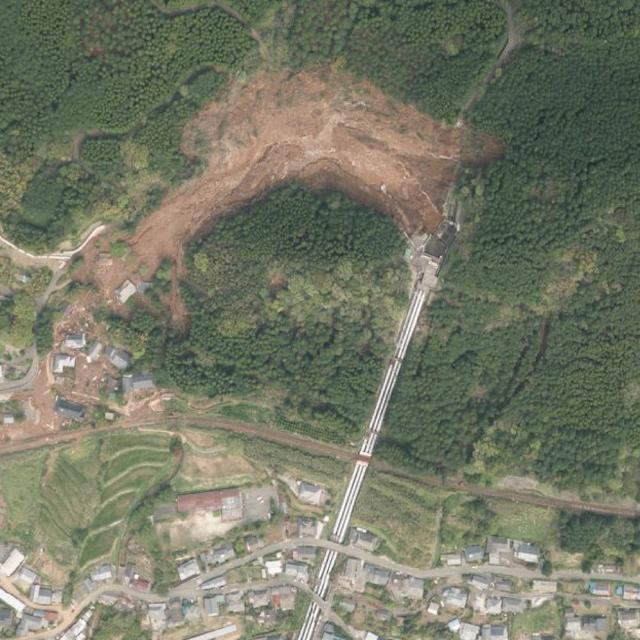landslide: (126, 65, 461, 274)
